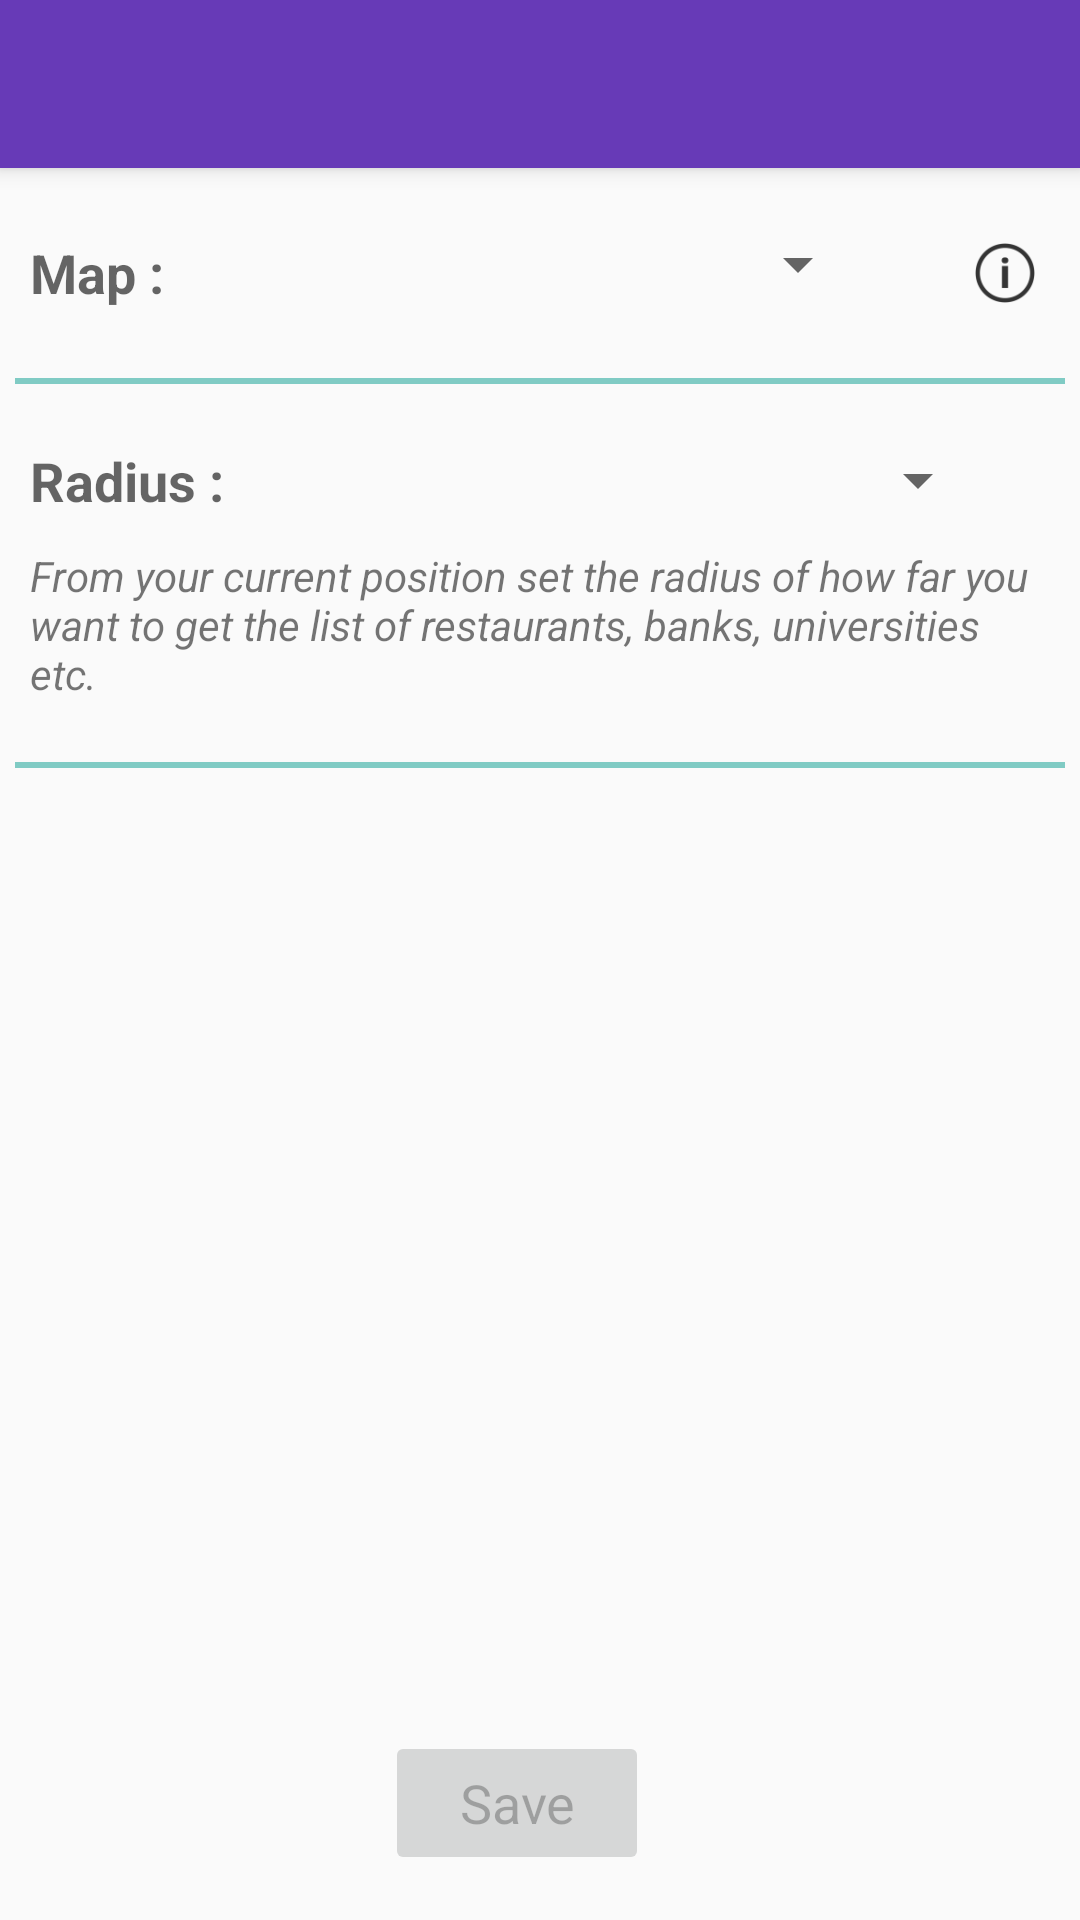

Locate icon controls on the screen. Image size 1080 x 1920, boxes as bbox(x1, y1, x2, y2).
what: bbox(975, 243, 1035, 303)
